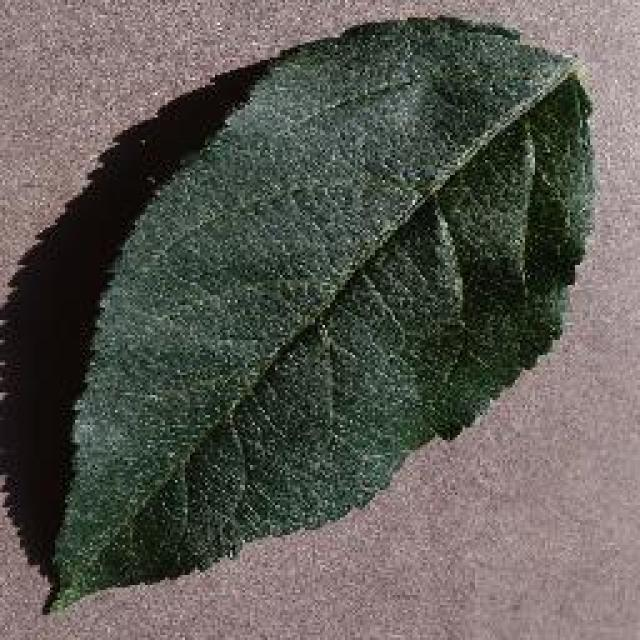apple healthy: (0, 12, 598, 612)
